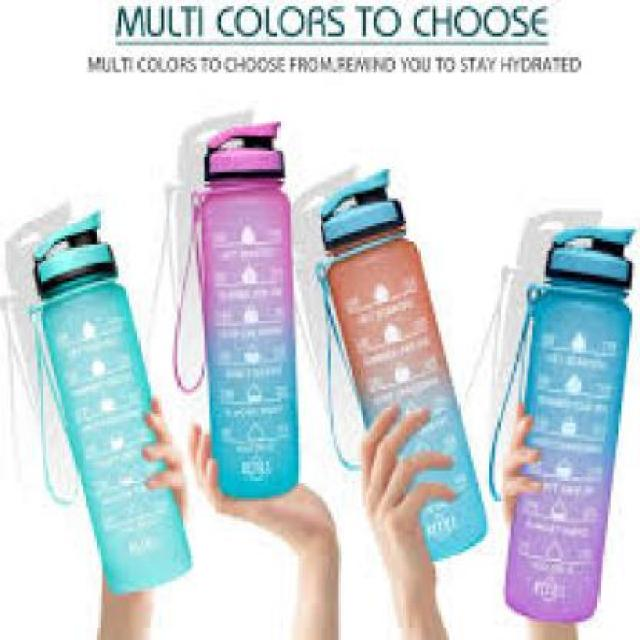Drinking: (19, 190, 178, 604), (183, 100, 312, 522), (501, 206, 623, 632)
